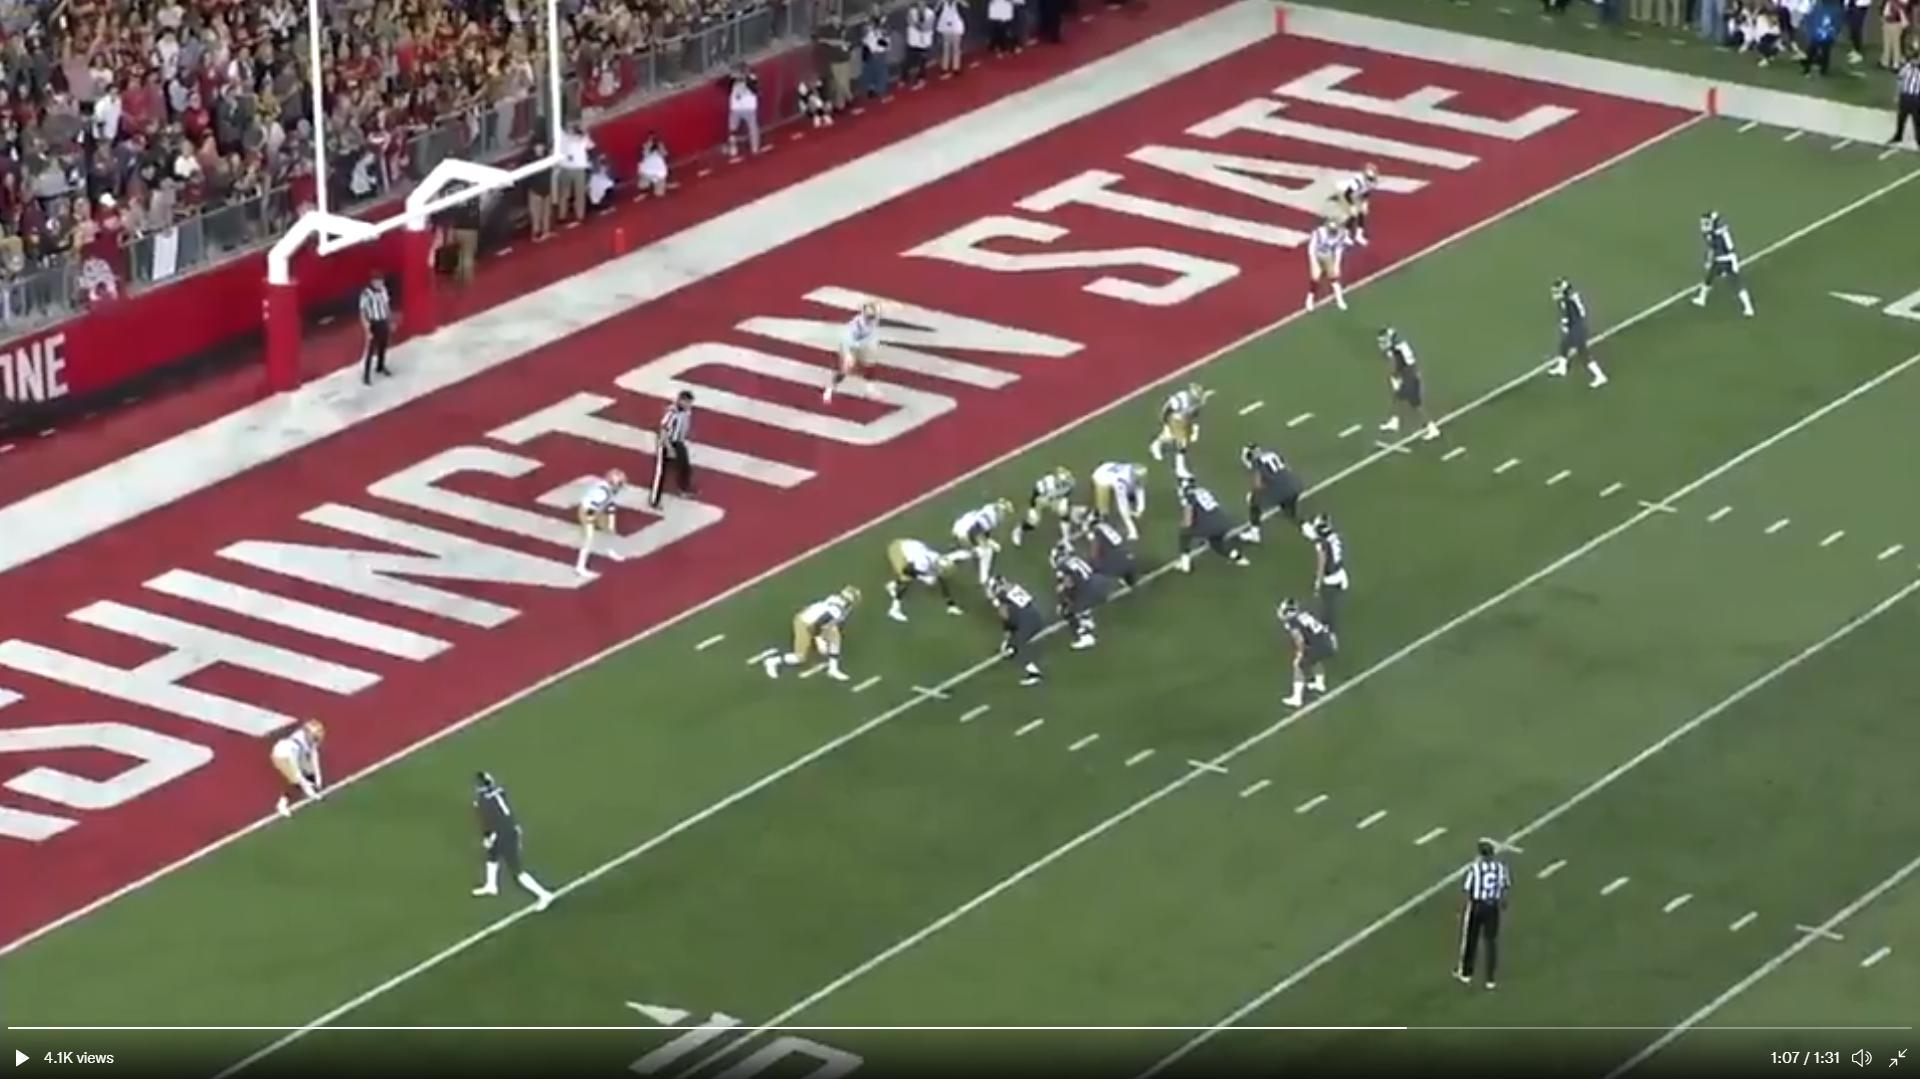center: (1070, 511, 1118, 544)
db: (567, 465, 627, 554), (821, 308, 874, 403), (283, 713, 331, 797), (1310, 211, 1353, 299), (1345, 160, 1379, 256)
lb: (969, 486, 1017, 587), (1030, 464, 1077, 547)
qb: (1301, 513, 1338, 593)
skill: (472, 776, 523, 901), (1388, 327, 1437, 442), (1279, 600, 1333, 699), (1701, 208, 1743, 306), (1557, 276, 1597, 374)
